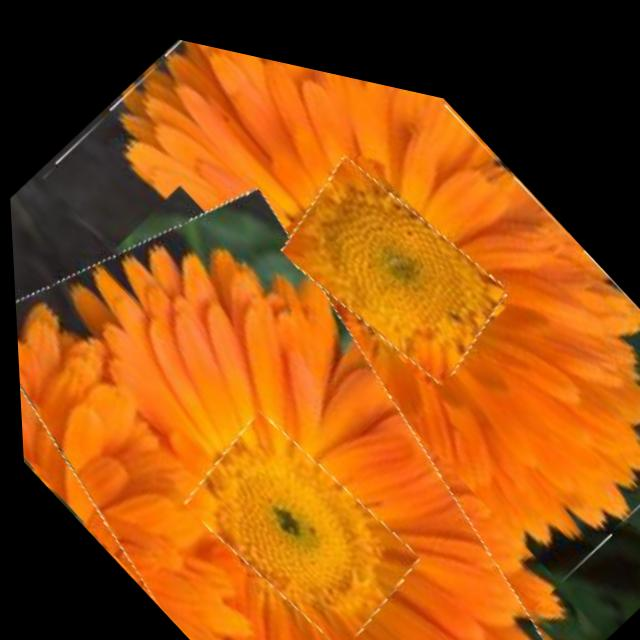Flower: (30, 5, 640, 640), (4, 108, 625, 640), (264, 111, 519, 395), (168, 375, 424, 640)
